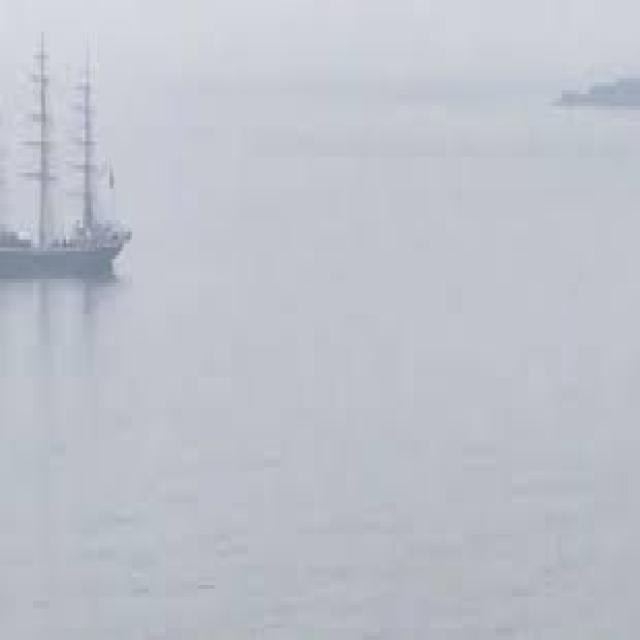fishing boat: (0, 44, 147, 292)
